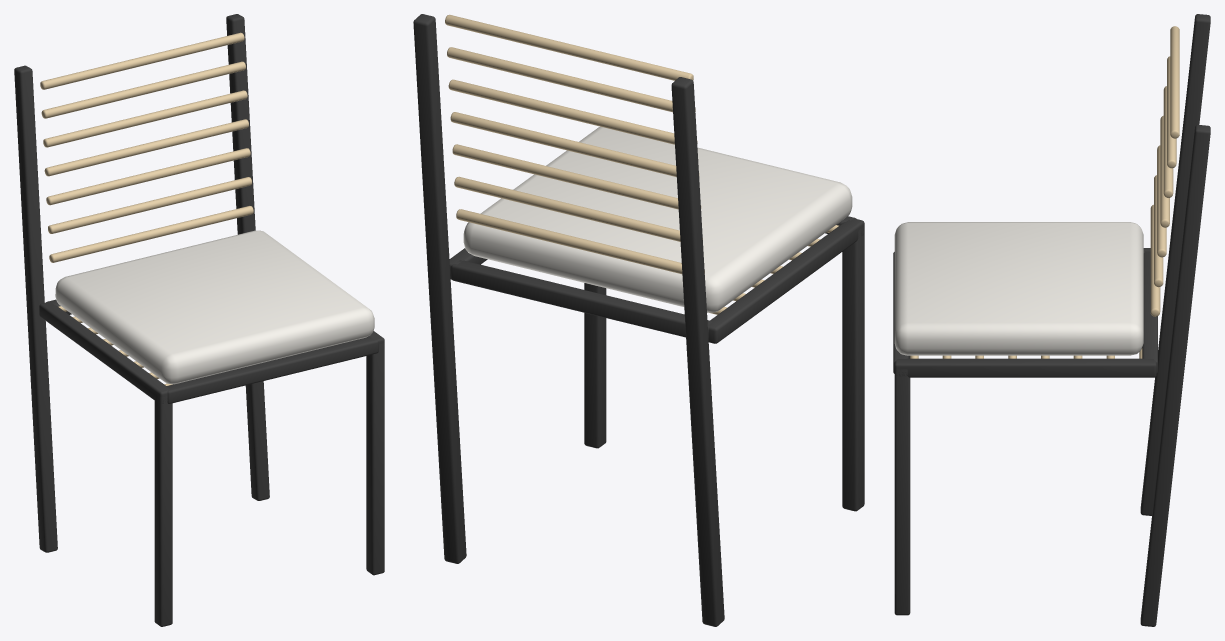
Rendered from cadeira_externa.glb.
3 views of the same model, side by side, from view 1: azimuth 30°, elevation 25°; view 2: azimuth 150°, elevation 25°; view 3: azimuth 270°, elevation 25° (orthographic). The views are drawn at different scales.
Visible parts, largest first — view 1: travessa.001; view 2: travessa.001; view 3: travessa.001.
Part boxes in pixels (box(x1,y1,x2,y2)): travessa.001: box(14, 14, 384, 626); travessa.001: box(413, 14, 864, 626); travessa.001: box(893, 14, 1210, 626).
Bounding box in the file's own units: 0.424 × 0.8374 × 0.4845.
